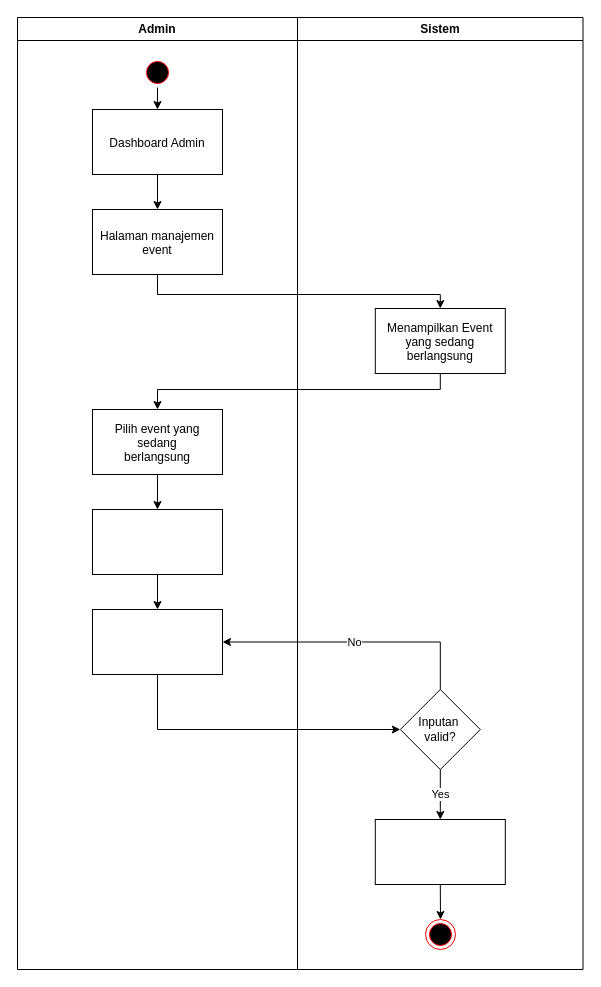
The diagram is 601 pixels wide and 987 high, and some of its shapes have lost their labels. The shapes that lost their labels are listed below. From the top down, each one's centre as x and y in pixels, then its label:
the point at 157,541: Masukkan task list
the point at 157,641: Action task (done/not yet)
the point at 439,851: Simpan dan kirim response berhasil
